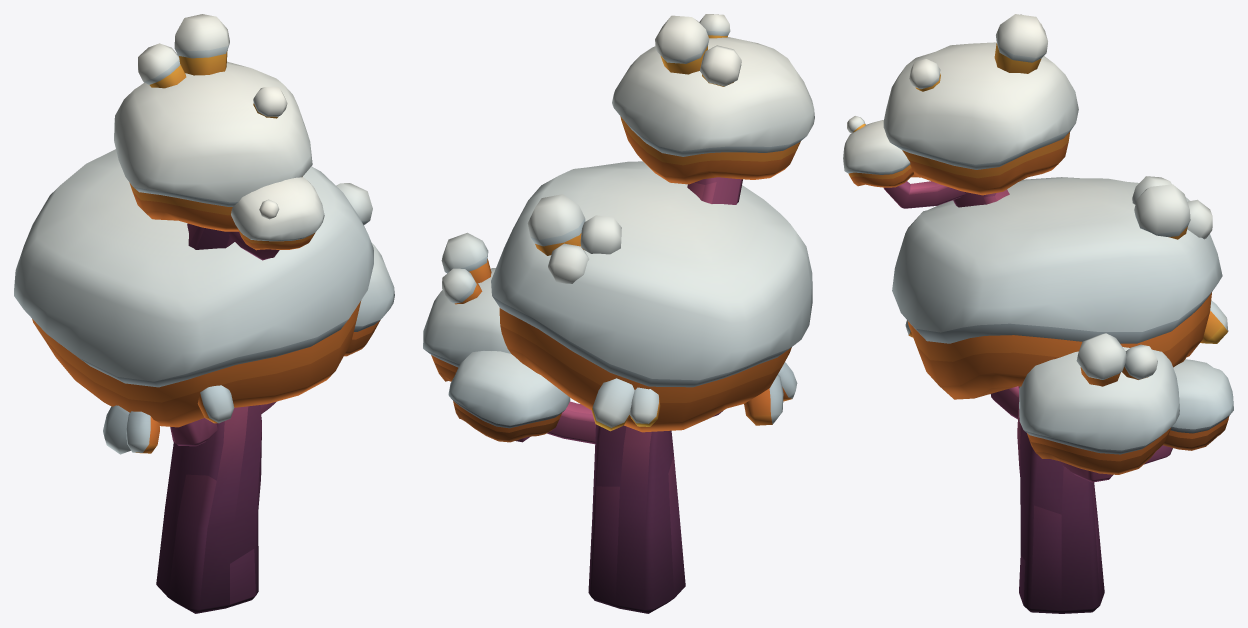
Rendered from grassland_tree_col2_7_snow.fbx.
3 views of the same model, side by side, from view 1: azimuth 30°, elevation 25°; view 2: azimuth 150°, elevation 25°; view 3: azimuth 270°, elevation 25° (orthographic). The views are drawn at different scales.
Parts seen in each view (by area): view 1: grassland_tree_col2_7_snow; view 2: grassland_tree_col2_7_snow; view 3: grassland_tree_col2_7_snow.
Boxes of the visible parts, bbox=[...] form: grassland_tree_col2_7_snow: bbox=[14, 14, 394, 613]; grassland_tree_col2_7_snow: bbox=[423, 14, 814, 613]; grassland_tree_col2_7_snow: bbox=[843, 14, 1233, 613].
Size of the model in its own units: 726 by 1187 by 738.
1 material, 1 textured.
